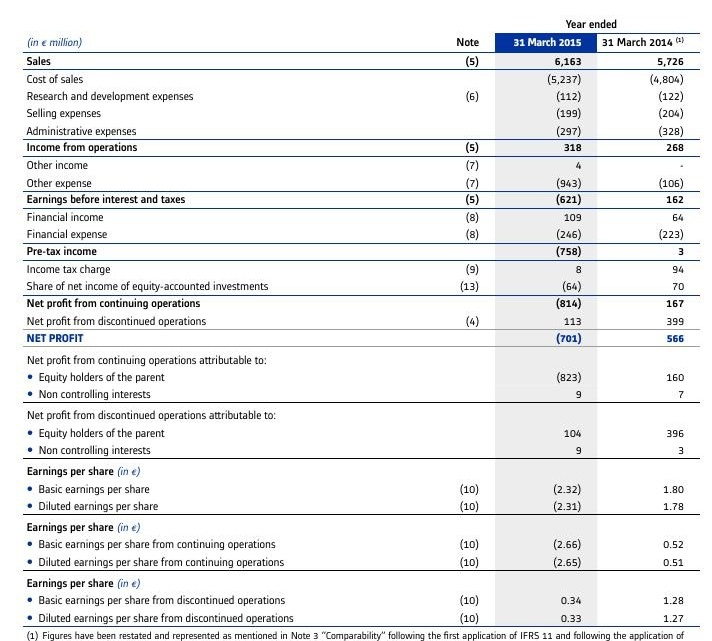table: (0, 0, 712, 641)
